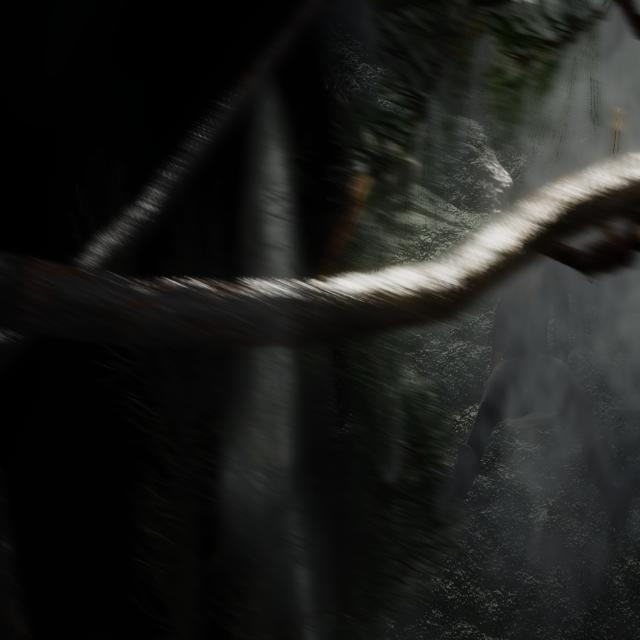Human: (440, 215, 637, 542)
